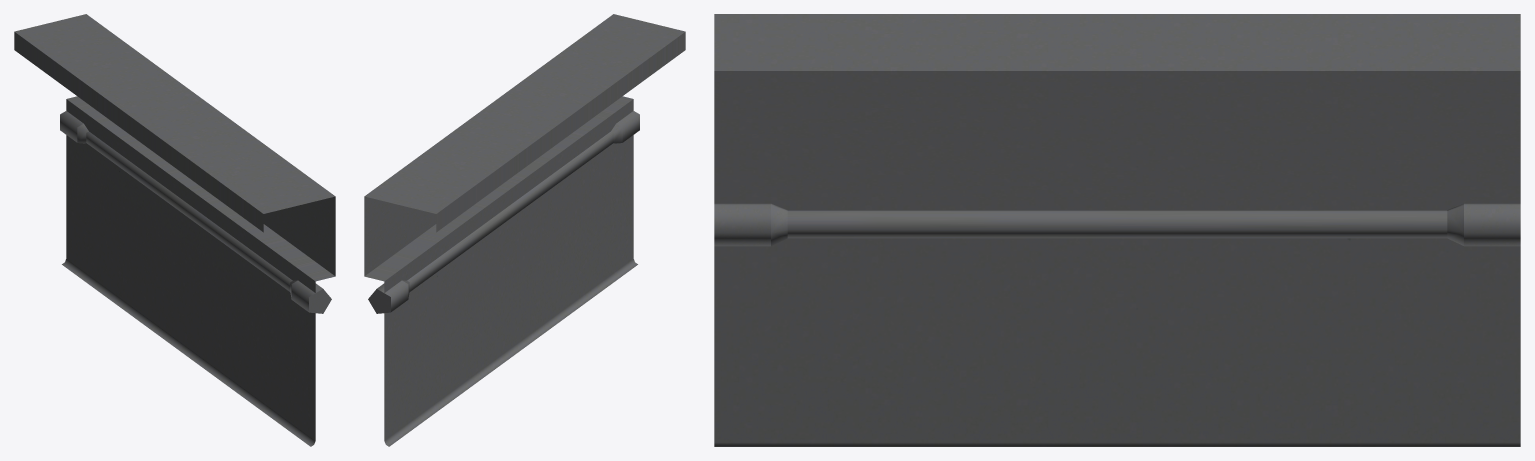
The model's file is SM_walkway_trim_b_100.fbx.
3 views of the same model, side by side, from view 1: azimuth 30°, elevation 25°; view 2: azimuth 150°, elevation 25°; view 3: azimuth 270°, elevation 25° (orthographic). The views are drawn at different scales.
Parts seen in each view (by area): view 1: smalltrim_b; view 2: smalltrim_b; view 3: smalltrim_b.
Part boxes in pixels (x1,y1,x2,y2): smalltrim_b: [14, 14, 335, 446]; smalltrim_b: [364, 14, 685, 446]; smalltrim_b: [714, 14, 1520, 446].
Bounding box in the file's own units: 0.3338 × 1.08 × 2.
